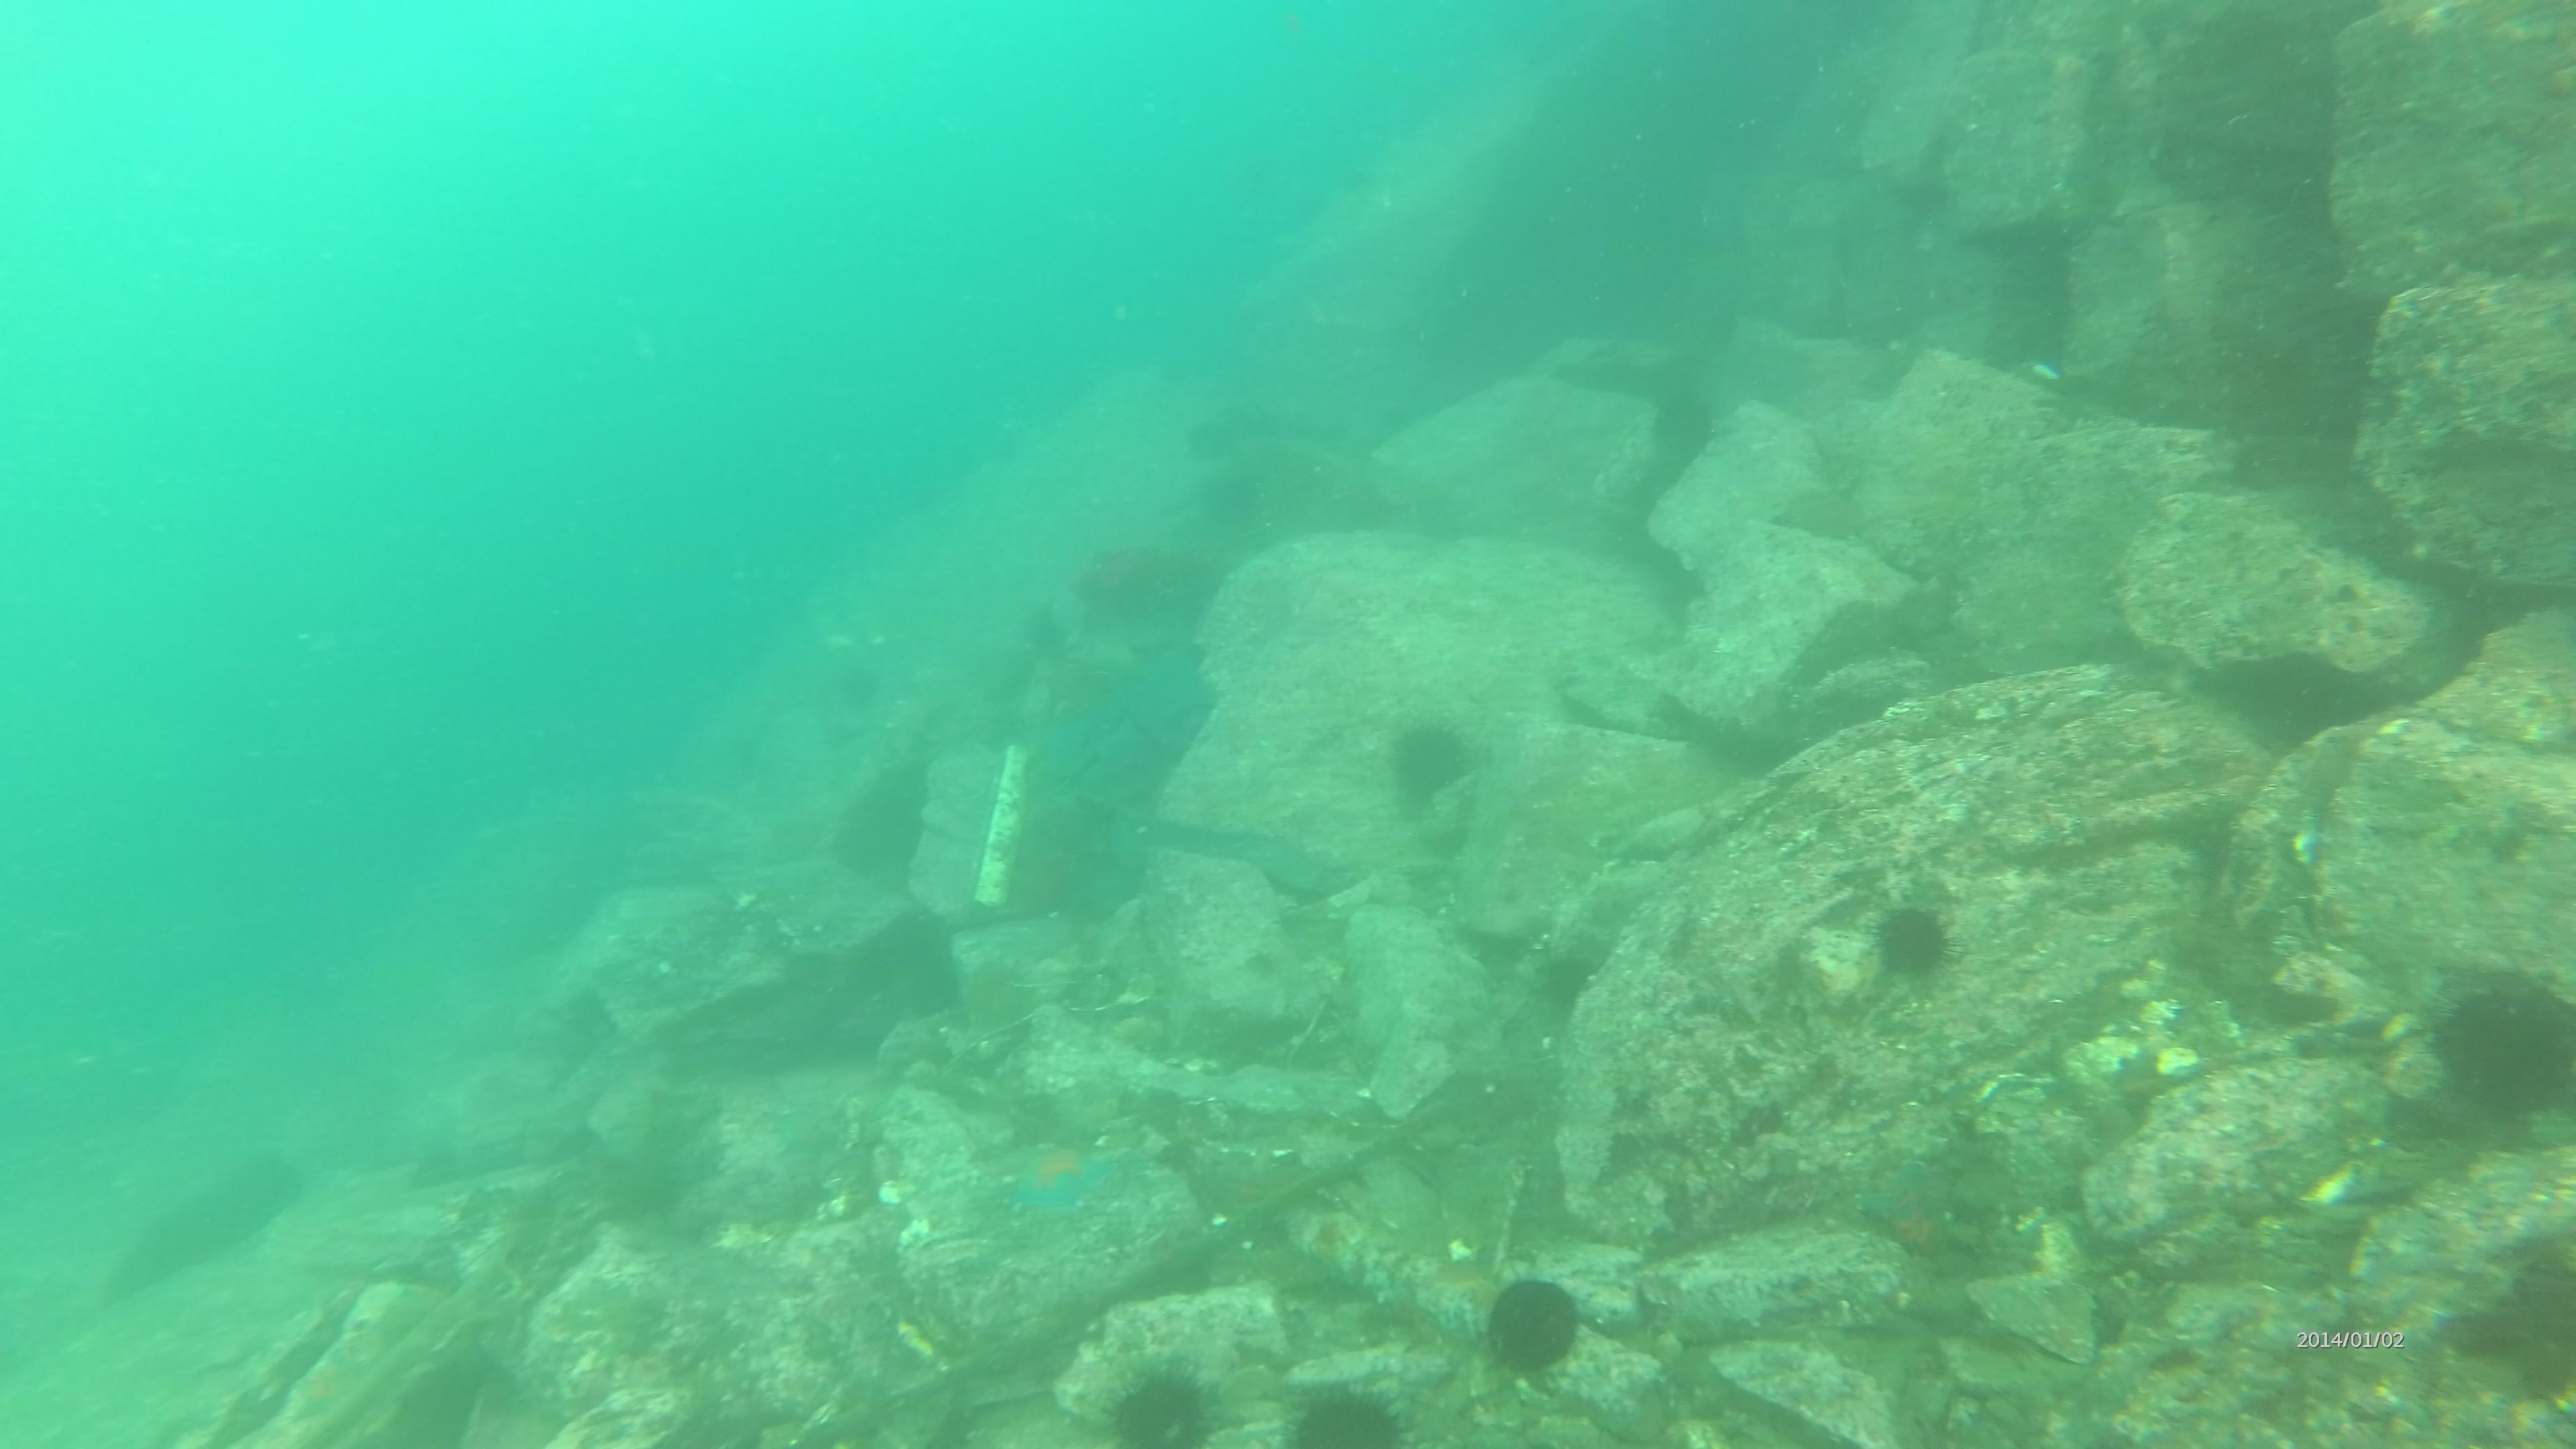echinus: (2426, 970, 2576, 1123), (1070, 536, 1196, 637), (1477, 1270, 1591, 1382), (1097, 1357, 1228, 1445), (1281, 1375, 1414, 1449), (1380, 711, 1479, 809), (1865, 895, 1962, 989), (1642, 379, 1725, 471), (1198, 476, 1270, 529), (1184, 416, 1247, 455)
starfish: (1852, 1155, 1996, 1270), (993, 1129, 1125, 1224)
